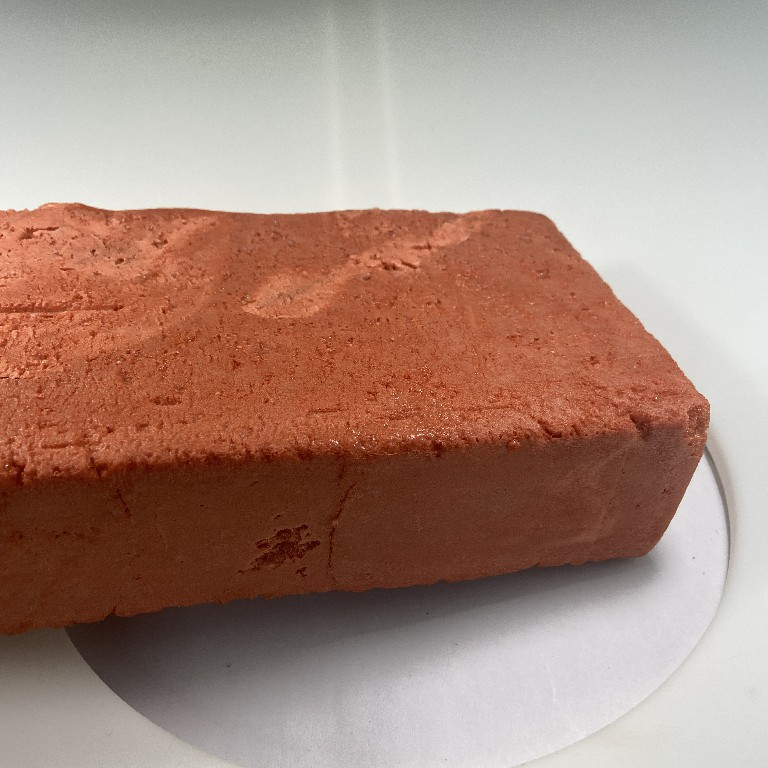brick: (1, 203, 713, 631)
